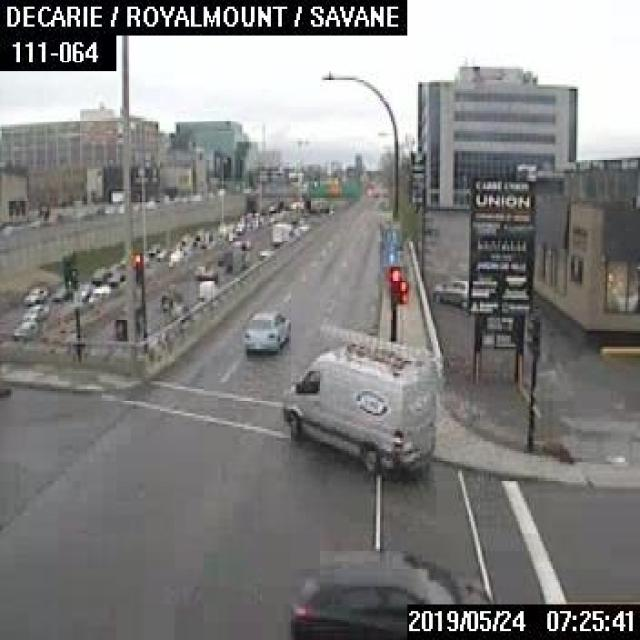vehicle: (278, 333, 436, 480), (286, 546, 489, 638), (240, 306, 291, 356), (431, 278, 467, 307), (20, 282, 46, 305), (270, 221, 293, 244), (20, 303, 48, 320), (196, 276, 216, 298), (12, 320, 38, 336)
